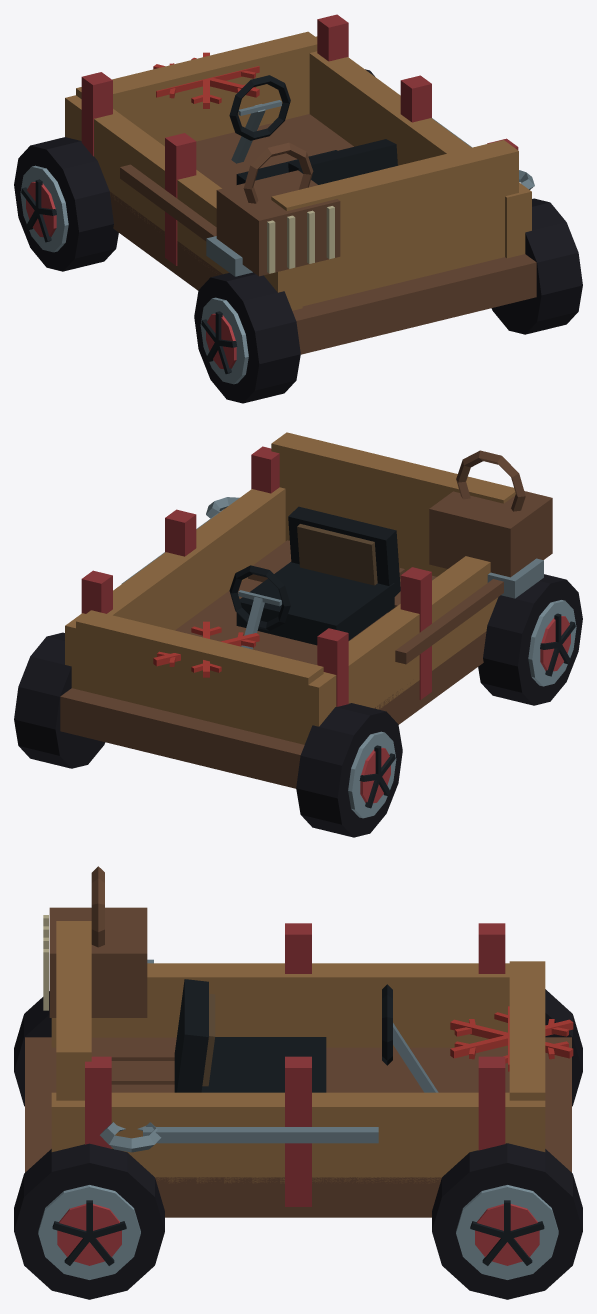
File: kart.glb
3 views of the same model, one above another, from view 1: azimuth 30°, elevation 25°; view 2: azimuth 150°, elevation 25°; view 3: azimuth 270°, elevation 25° (orthographic). The views are drawn at different scales.
Parts seen in each view (by area): view 1: identity-wagon-wagon-timber-coach, wheel-rear-left, wheel-front-left, identity-wagon-motif-basket, wheel-rear-right, identity-wagon-driver-cockpit, identity-wagon-motif-tools, identity-wagon-motif-snow; view 2: identity-wagon-wagon-timber-coach, identity-wagon-driver-cockpit, wheel-front-left, wheel-rear-left, identity-wagon-motif-basket, wheel-front-right, identity-wagon-motif-tools, identity-wagon-motif-snow; view 3: identity-wagon-wagon-timber-coach, wheel-front-right, wheel-rear-right, identity-wagon-driver-cockpit, identity-wagon-motif-basket, identity-wagon-motif-tools, identity-wagon-motif-snow, wheel-rear-left, wheel-front-left.
Boxes of the visible parts, x1,y1,x2,y2 form: identity-wagon-wagon-timber-coach: (65,14,536,354); wheel-rear-left: (194,272,300,403); wheel-front-left: (14,137,118,271); identity-wagon-motif-basket: (216,142,340,276); wheel-rear-right: (491,198,582,334); identity-wagon-driver-cockpit: (229,75,397,184); identity-wagon-motif-tools: (120,118,534,276); identity-wagon-motif-snow: (153,52,259,108); identity-wagon-wagon-timber-coach: (60,432,515,788); identity-wagon-driver-cockpit: (229,506,400,649); wheel-front-left: (296,703,402,837); wheel-rear-left: (478,574,582,705); identity-wagon-motif-basket: (429,450,552,577); wheel-front-right: (14,632,105,768); identity-wagon-motif-tools: (122,497,543,664); identity-wagon-motif-snow: (153,621,259,677); identity-wagon-wagon-timber-coach: (25,921,571,1217); wheel-front-right: (432,1143,582,1299); wheel-rear-right: (14,1143,164,1299); identity-wagon-driver-cockpit: (174,979,438,1092); identity-wagon-motif-basket: (43,866,147,1017); identity-wagon-motif-tools: (100,959,378,1152); identity-wagon-motif-snow: (450,1006,573,1071); wheel-rear-left: (14,991,51,1106); wheel-front-left: (545,989,582,1106).
Size of the model in its own units: 2.07 by 1.37 by 2.56.
